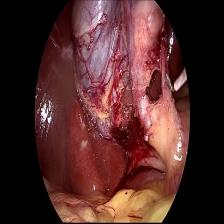Hook: (165, 62, 189, 98)
